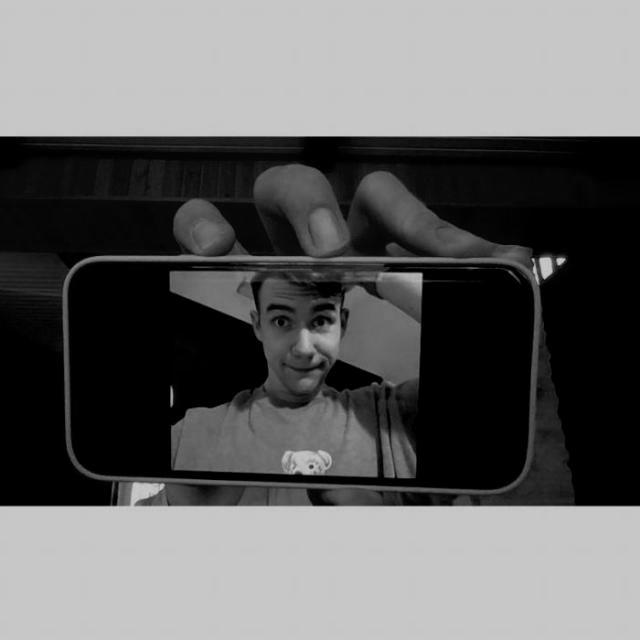fake: (66, 260, 536, 494)
